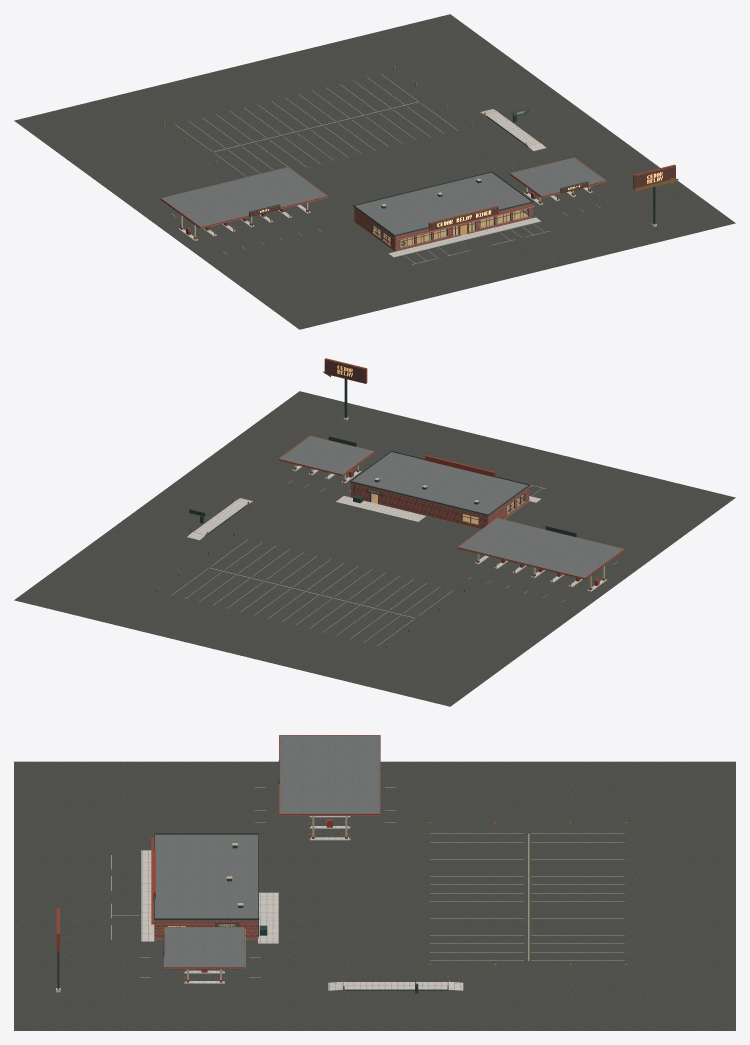
The model's file is cedar-relay-1960.glb.
3 renders of one model, top to bottom at view 1: azimuth 30°, elevation 25°; view 2: azimuth 150°, elevation 25°; view 3: azimuth 270°, elevation 25°, orthographic. The views are drawn at different scales.
Visible parts, largest first — view 1: lot, building_shell, diesel_canopy, car_canopy, sign_name; view 2: lot, building_shell, diesel_canopy, car_canopy, sign_name_rear; view 3: lot, building_shell, diesel_canopy, car_canopy.
Boxes of the visible parts, x1,y1,x2,y2 form: lot: (14, 14, 735, 329); building_shell: (353, 171, 534, 251); diesel_canopy: (160, 167, 328, 240); car_canopy: (509, 157, 606, 205); sign_name: (635, 166, 675, 188); lot: (14, 391, 735, 706); building_shell: (349, 450, 531, 529); diesel_canopy: (457, 518, 624, 591); car_canopy: (278, 435, 374, 483); sign_name_rear: (325, 360, 365, 382); lot: (14, 761, 735, 1030); building_shell: (151, 833, 259, 939); diesel_canopy: (278, 735, 380, 840); car_canopy: (163, 927, 245, 983).
Size of what is drawn, in the model's own units: 127 by 15.56 by 144.
11 materials, 11 textured.
